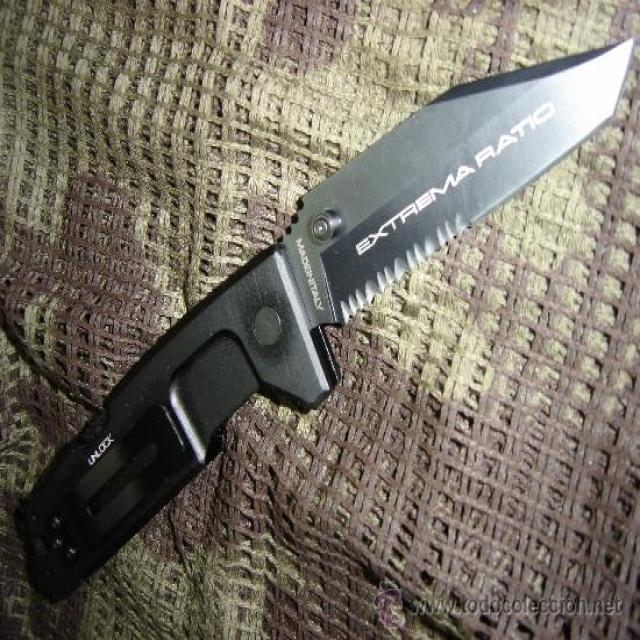knife: (19, 37, 637, 611)
